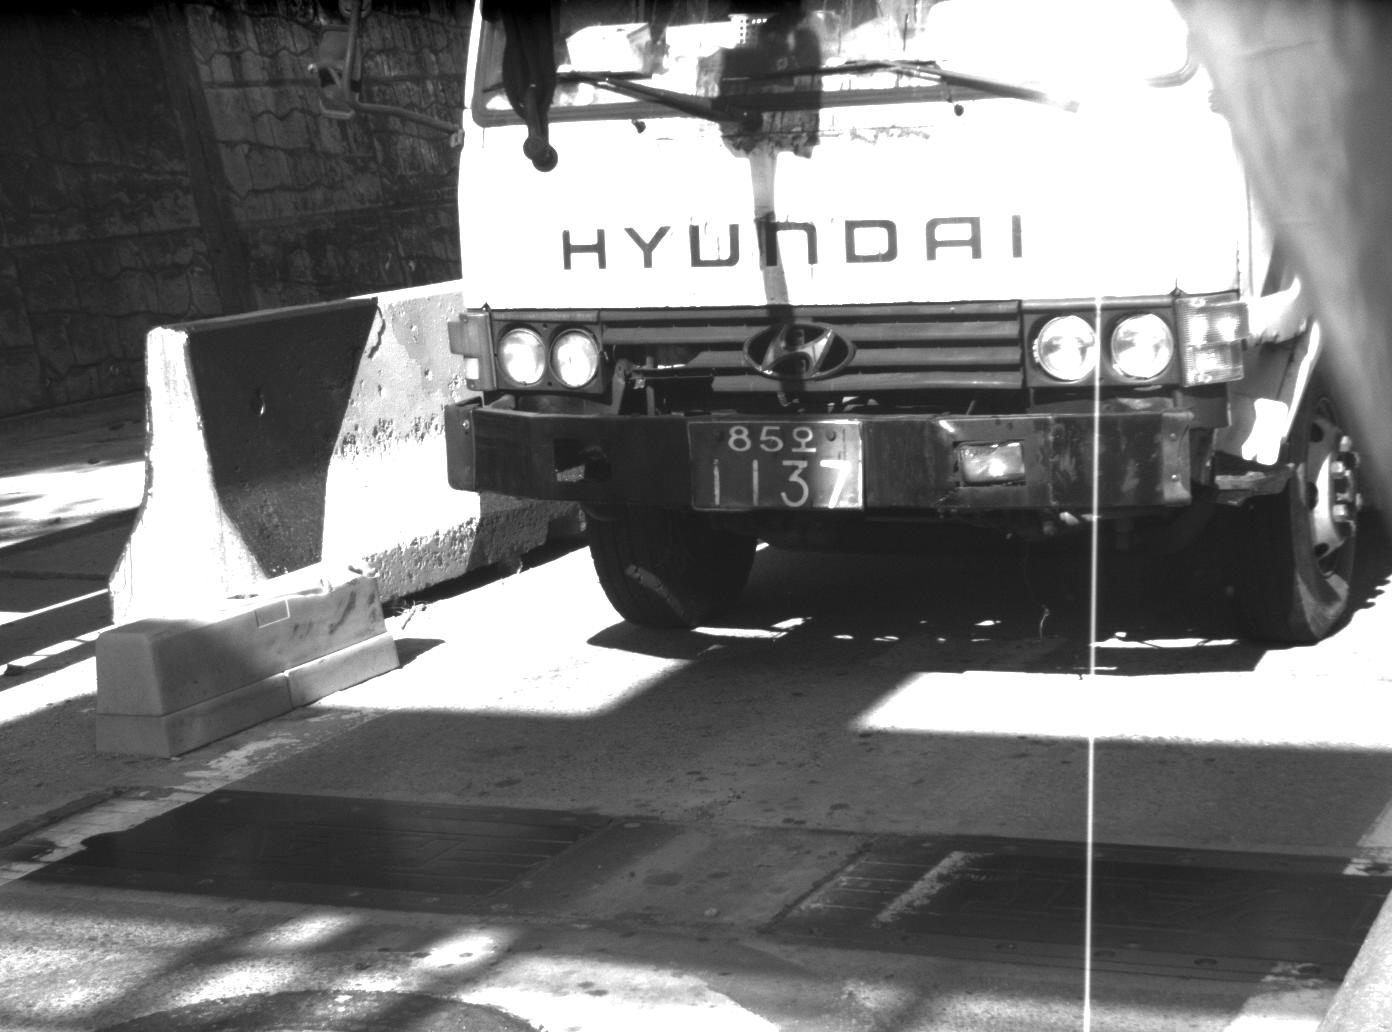car: (447, 1, 1392, 649)
plate: (686, 419, 864, 509)
